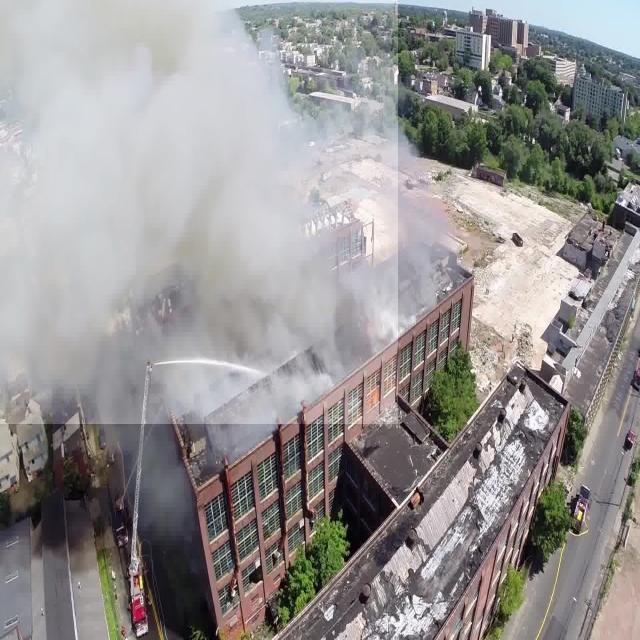Smoke: (0, 0, 398, 424)
